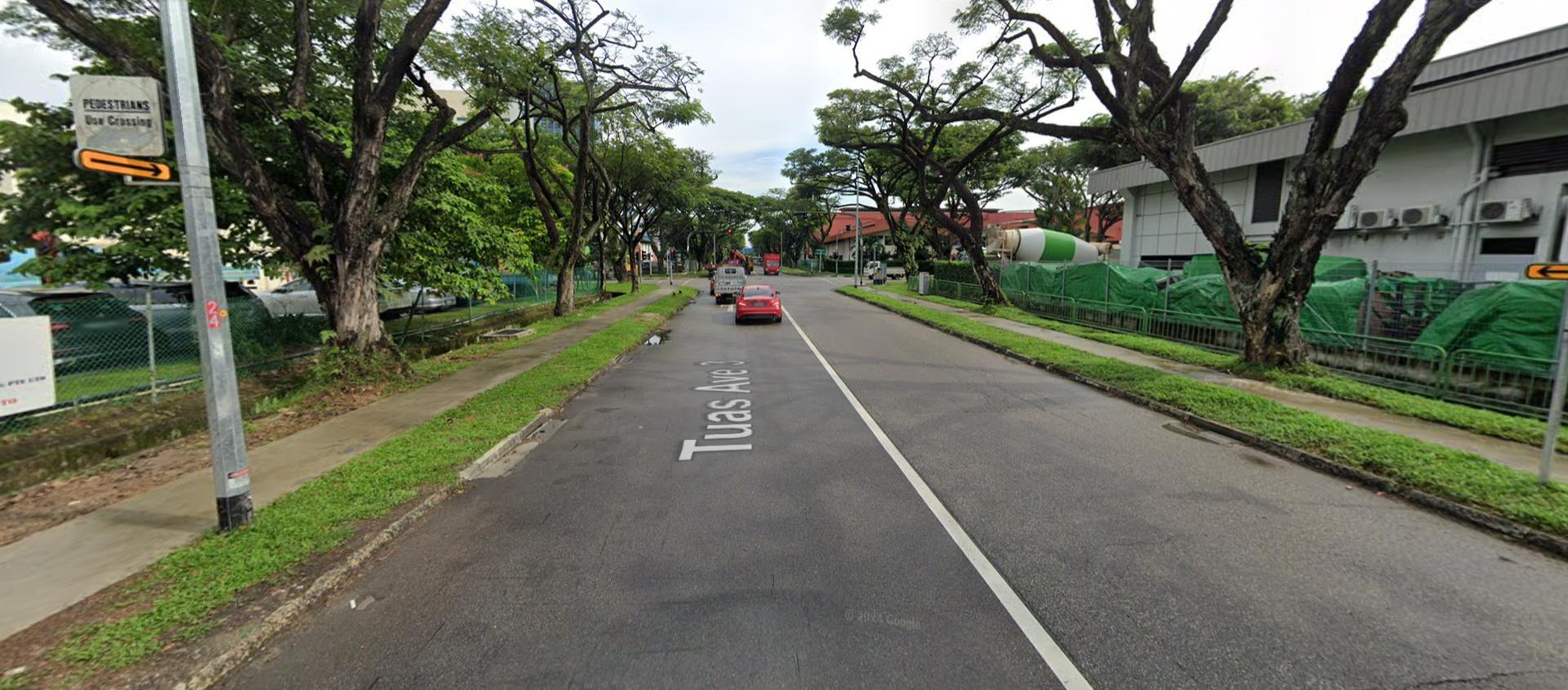normal: (530, 419, 565, 442)
